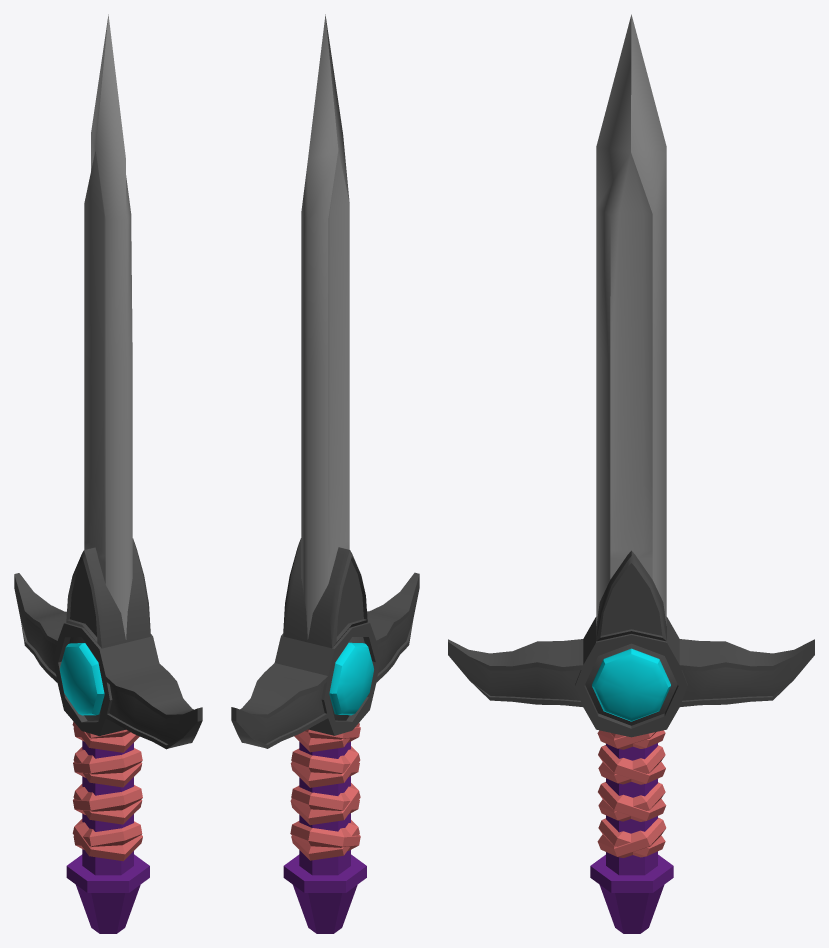
The model's file is Sword.fbx.
3 views of the same model, side by side, from view 1: azimuth 30°, elevation 25°; view 2: azimuth 150°, elevation 25°; view 3: azimuth 270°, elevation 25° (orthographic).
Parts seen in each view (by area): view 1: Sword_Blade, Sward_Gard, Sword_Hilt, Strap_2, Strap_5, Strap_3, Strap_4, Strap_6, Strap_1, Strap_8; view 2: Sword_Blade, Sward_Gard, Sword_Hilt, Strap_3, Strap_6, Strap_2, Strap_1, Strap_5, Strap_4, Strap_7, Strap_8; view 3: Sword_Blade, Sward_Gard, Sword_Hilt, Strap_3, Strap_2, Strap_5, Strap_6, Strap_1, Strap_4.
Part boxes in pixels (x1=…): Sword_Blade: x1=84, y1=14, x2=132, y2=639; Sward_Gard: x1=14, y1=538, x2=202, y2=749; Sword_Hilt: x1=66, y1=741, x2=149, y2=933; Strap_2: x1=73, y1=785, x2=142, y2=814; Strap_5: x1=73, y1=748, x2=142, y2=777; Strap_3: x1=72, y1=819, x2=142, y2=861; Strap_4: x1=73, y1=821, x2=142, y2=849; Strap_6: x1=73, y1=747, x2=142, y2=787; Strap_1: x1=73, y1=784, x2=142, y2=824; Strap_8: x1=72, y1=721, x2=139, y2=752; Sword_Blade: x1=301, y1=14, x2=349, y2=639; Sward_Gard: x1=231, y1=538, x2=419, y2=748; Sword_Hilt: x1=283, y1=741, x2=366, y2=933; Strap_3: x1=290, y1=821, x2=360, y2=850; Strap_6: x1=291, y1=748, x2=359, y2=777; Strap_2: x1=290, y1=783, x2=360, y2=825; Strap_1: x1=291, y1=785, x2=359, y2=813; Strap_5: x1=290, y1=746, x2=360, y2=787; Strap_4: x1=291, y1=820, x2=359, y2=860; Strap_7: x1=294, y1=723, x2=359, y2=752; Strap_8: x1=302, y1=726, x2=360, y2=742; Sword_Blade: x1=596, y1=14, x2=666, y2=625; Sward_Gard: x1=448, y1=550, x2=814, y2=737; Sword_Hilt: x1=590, y1=743, x2=673, y2=933; Strap_3: x1=597, y1=817, x2=666, y2=857; Strap_2: x1=598, y1=782, x2=666, y2=821; Strap_5: x1=598, y1=745, x2=665, y2=784; Strap_6: x1=598, y1=745, x2=665, y2=784; Strap_1: x1=598, y1=782, x2=665, y2=821; Strap_4: x1=598, y1=818, x2=665, y2=857.
Bounding box in the file's own units: 2.53 × 28.87 × 10.5.
